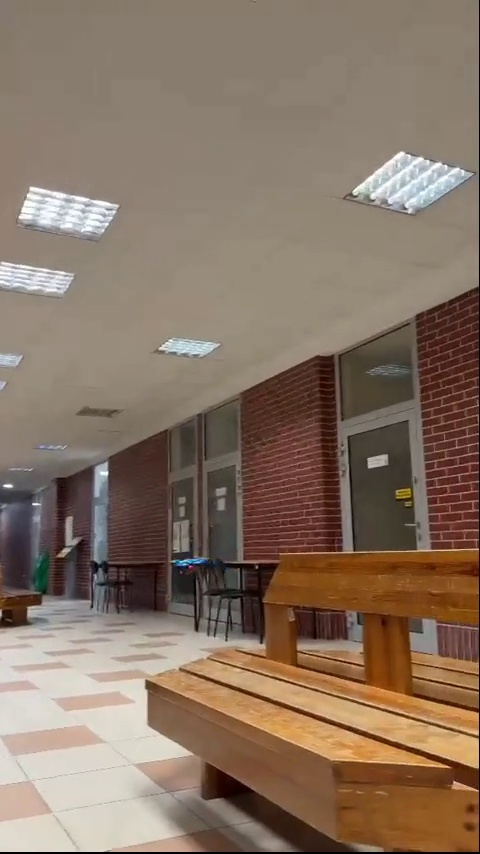drone: (177, 558, 209, 575)
